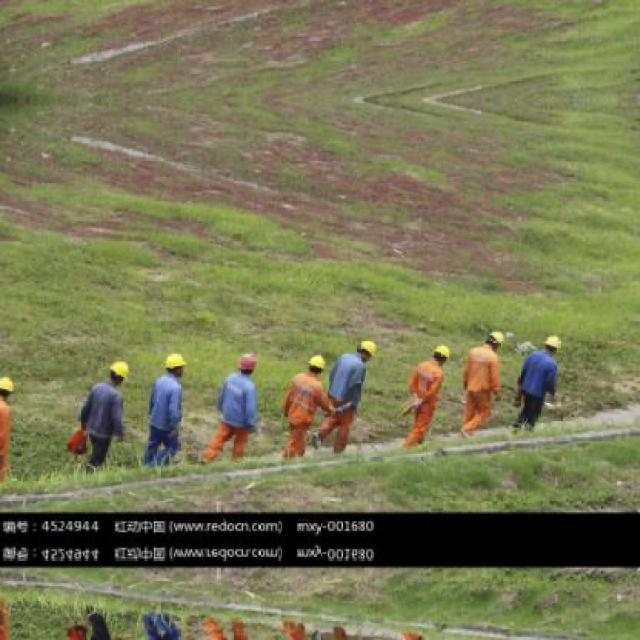helmet: (162, 348, 188, 376), (535, 324, 560, 352), (482, 322, 504, 351), (428, 338, 452, 364), (229, 348, 257, 370), (104, 355, 128, 380), (303, 350, 325, 372), (354, 336, 376, 358), (0, 368, 15, 394)
